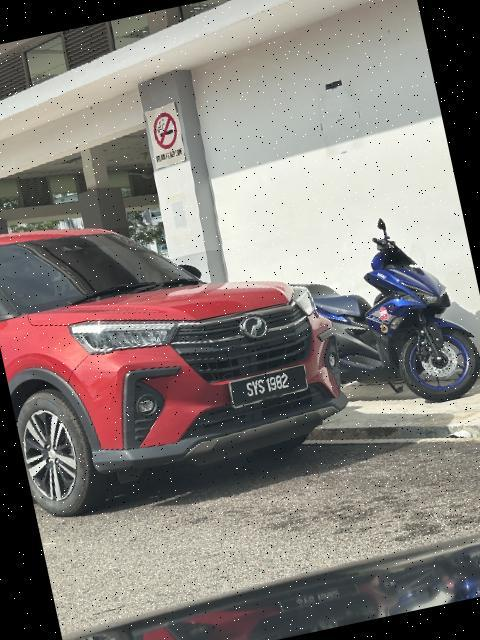License_Plate: (226, 363, 312, 413)
SYS1982: (226, 363, 312, 413)
car: (1, 156, 359, 531)
motorcycle: (267, 194, 480, 436)
